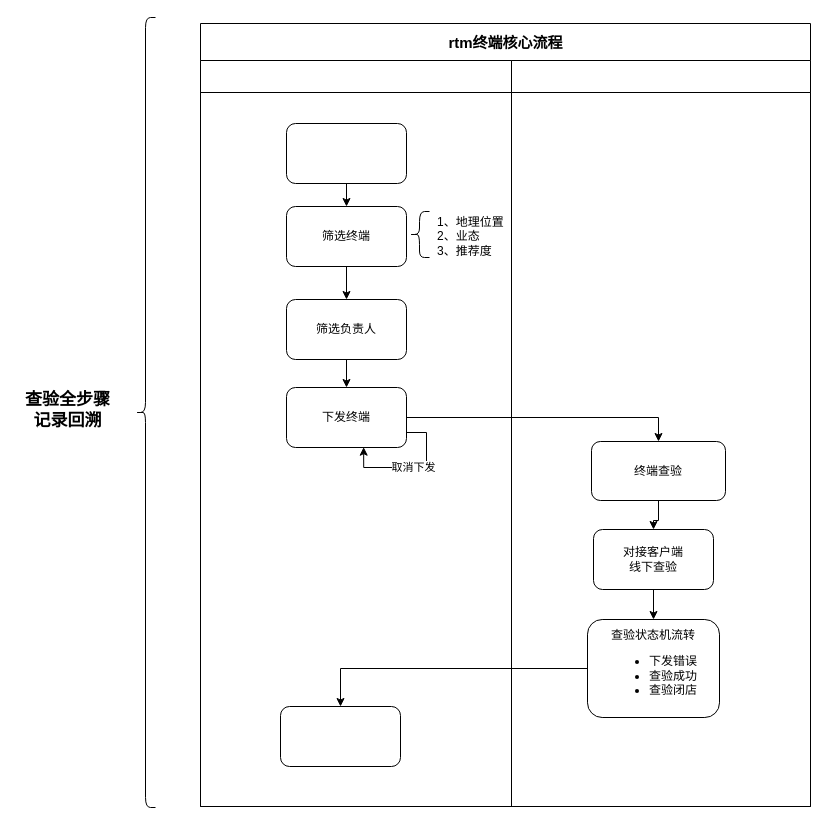
This 828x825 diagram has some shape labels left out. The box of each missing label's shape, as (x1, y1, x2, y2) in pixels:
一线人员: (510, 60, 810, 806)
开始: (286, 122, 406, 184)
查验结果统计 1、查验过程信息展示 2、各个维度进行统计: (280, 706, 400, 766)
部门负责人: (200, 60, 512, 806)
